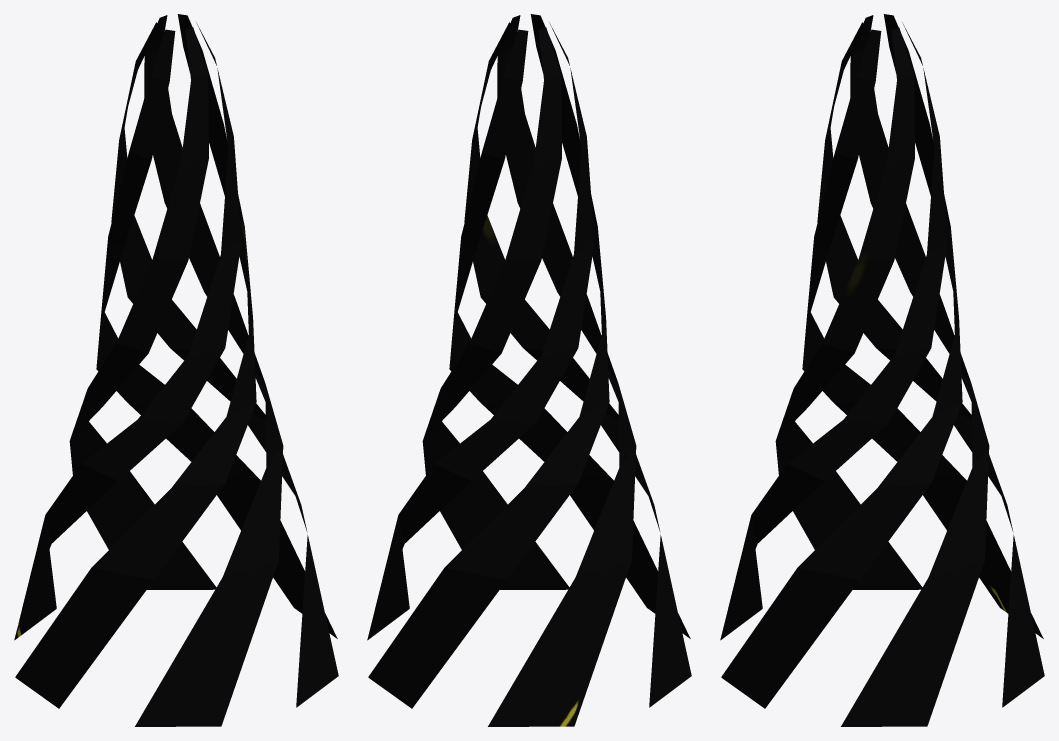
The model's file is Arrow_Strick.fbx.
3 views of the same model, side by side, from view 1: azimuth 30°, elevation 25°; view 2: azimuth 150°, elevation 25°; view 3: azimuth 270°, elevation 25° (orthographic).
Visible parts, largest first — view 1: Arrow_Strick; view 2: Arrow_Strick; view 3: Arrow_Strick.
Part boxes in pixels (x1,y1,x2,y2): Arrow_Strick: (14,14,338,726); Arrow_Strick: (367,14,691,726); Arrow_Strick: (720,14,1044,726).
Size of the model in its own units: 4.11 by 8.88 by 4.11.
